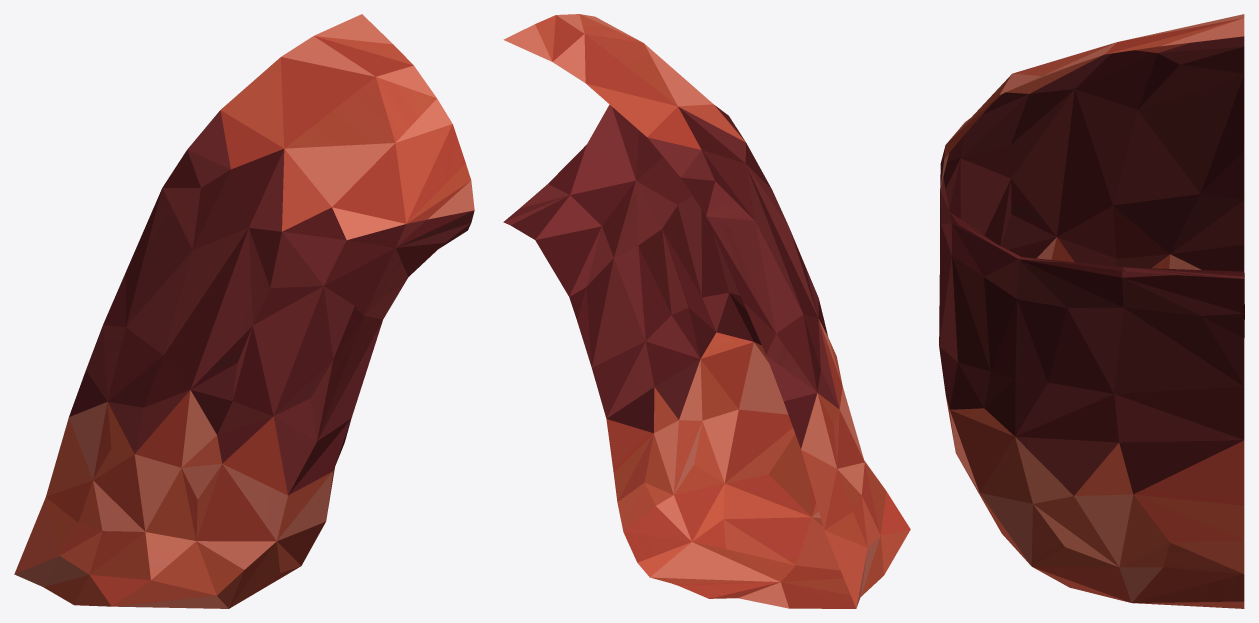
Rendered from Tunnel_Corner_Piece_L_Front.fbx.
The picture shows the model from 3 angles, left to right: view 1: azimuth 30°, elevation 25°; view 2: azimuth 150°, elevation 25°; view 3: azimuth 270°, elevation 25°; orthographic projection. The views are drawn at different scales.
Parts seen in each view (by area): view 1: polySurface12; view 2: polySurface12; view 3: polySurface12.
Boxes of the visible parts, <box> form: polySurface12: <box>14,14,474,608</box>; polySurface12: <box>503,14,910,608</box>; polySurface12: <box>939,14,1244,608</box>.
Size of the model in its own units: 616 by 849 by 347.
